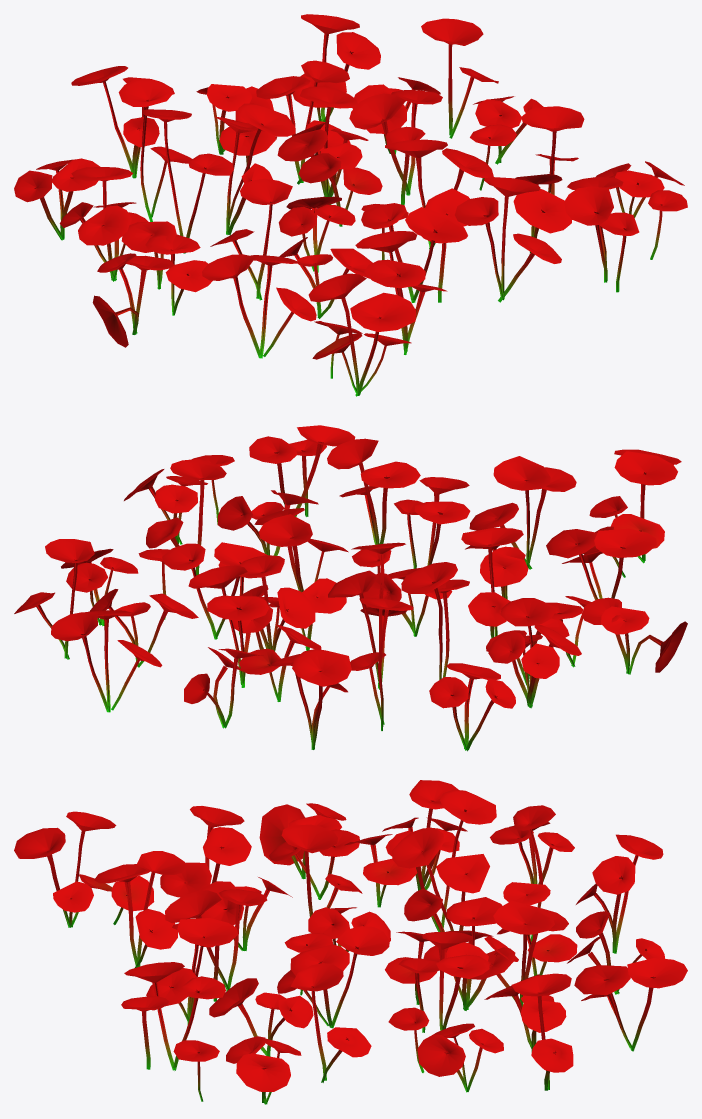
Rendered from Native Violet_LOD2_Var2_ultkcfeja.fbx.
3 views of the same model, one above another, from view 1: azimuth 30°, elevation 25°; view 2: azimuth 150°, elevation 25°; view 3: azimuth 270°, elevation 25° (orthographic). The views are drawn at different scales.
Parts seen in each view (by area): view 1: _bvut_Var2_LOD2; view 2: _bvut_Var2_LOD2; view 3: _bvut_Var2_LOD2.
Boxes of the visible parts, x1,y1,x2,y2 form: _bvut_Var2_LOD2: (14, 14, 687, 396); _bvut_Var2_LOD2: (14, 425, 687, 751); _bvut_Var2_LOD2: (14, 780, 687, 1104).
Size of the model in its own units: 55.44 by 13.4 by 58.29.
